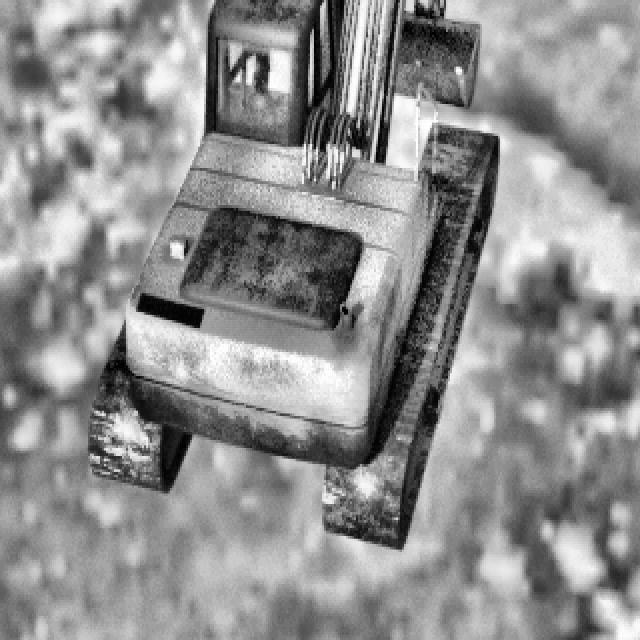excavator: (86, 0, 498, 549)
